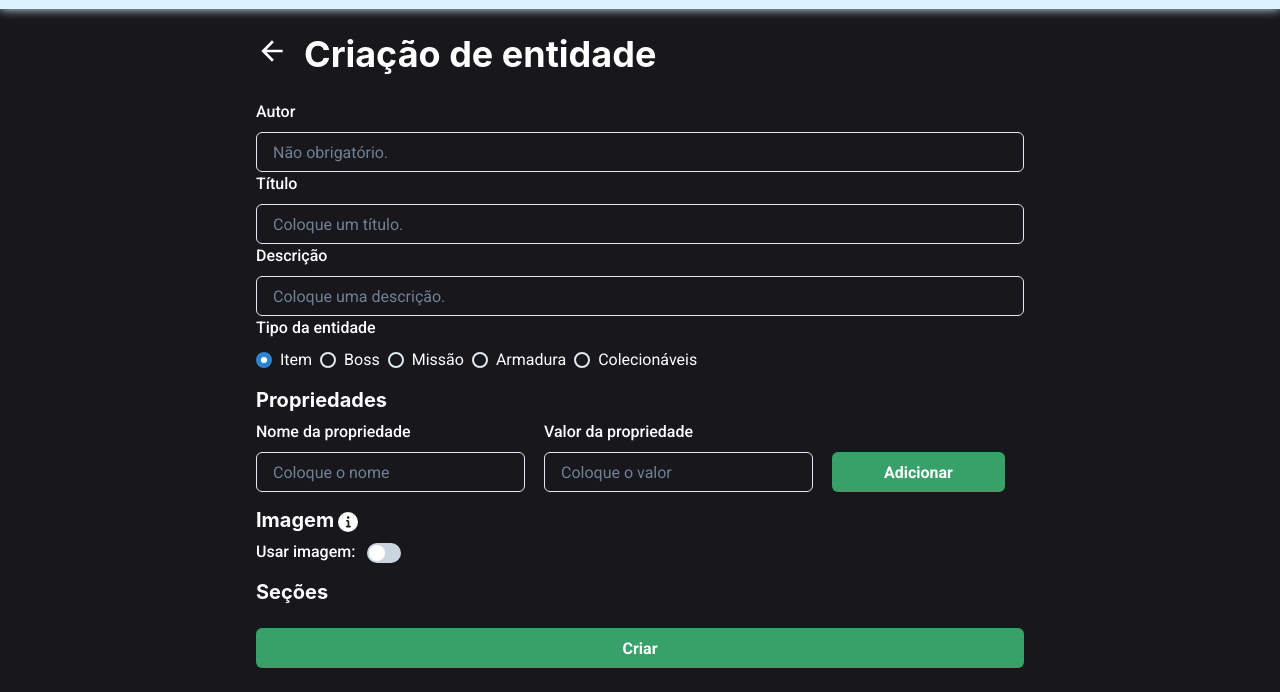
Test case: create entity spec › should validate the form
The image size is (1280, 692).
(page scrolled)
What coordinates should you click on to do the following:
click the button "Criar"
I would click on:
 (640, 648)
Its box is top-left (256, 628), bottom-right (1024, 668).
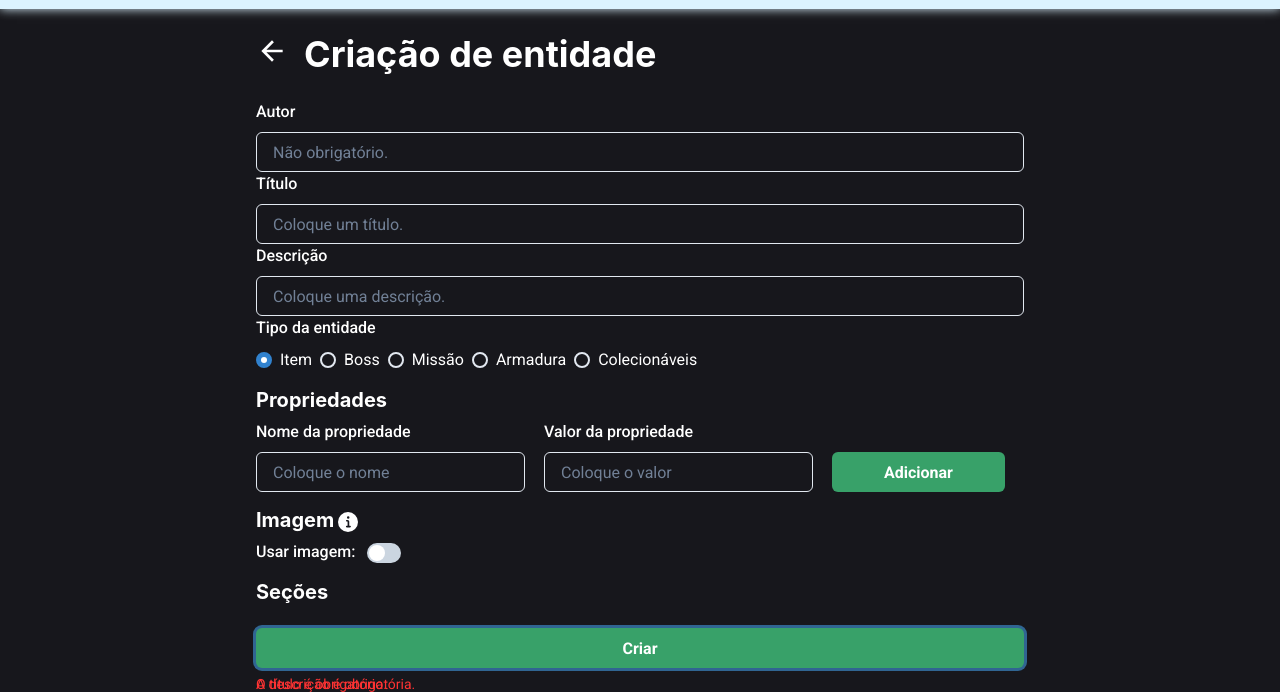
expect the text "O título é obrigatório." is shown: met, box top-left (256, 676), bottom-right (387, 691)
expect the text "A descrição é obrigatória." is shown: met, box top-left (256, 676), bottom-right (415, 691)
